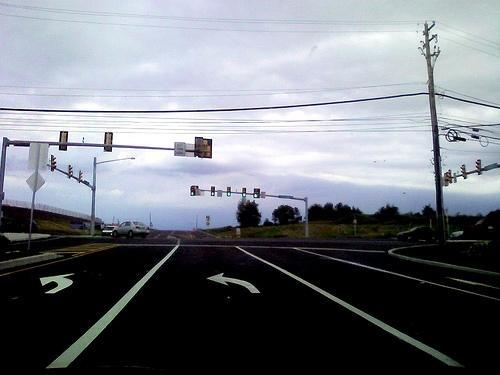car: (460, 208, 500, 242), (396, 226, 442, 242), (112, 220, 149, 238), (100, 226, 118, 236)
